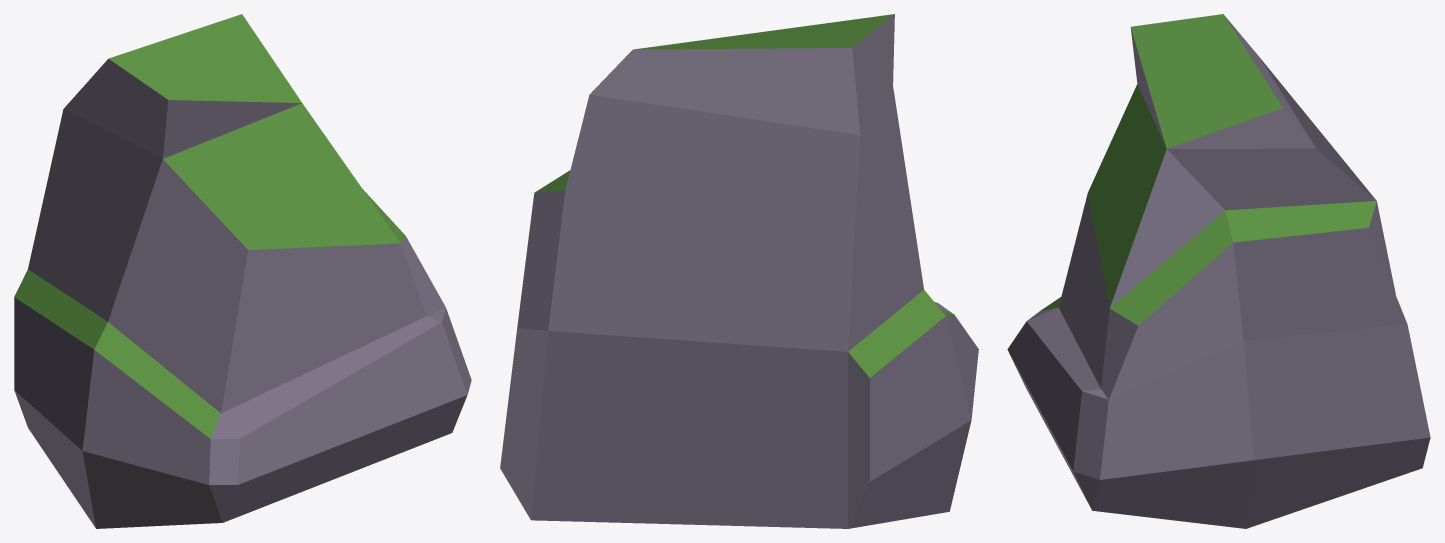
The model's file is Rock_Moss_2.glb.
The picture shows the model from 3 angles, left to right: view 1: azimuth 30°, elevation 25°; view 2: azimuth 150°, elevation 25°; view 3: azimuth 270°, elevation 25°; orthographic projection. The views are drawn at different scales.
Visible parts, largest first — view 1: Rock_Moss_2_Cube.021; view 2: Rock_Moss_2_Cube.021; view 3: Rock_Moss_2_Cube.021.
Boxes of the visible parts, x1,y1,x2,y2 form: Rock_Moss_2_Cube.021: [14, 14, 471, 528]; Rock_Moss_2_Cube.021: [500, 14, 978, 528]; Rock_Moss_2_Cube.021: [1007, 14, 1430, 528].
Bounding box in the file's own units: 0.6125 × 0.6918 × 0.6504.
